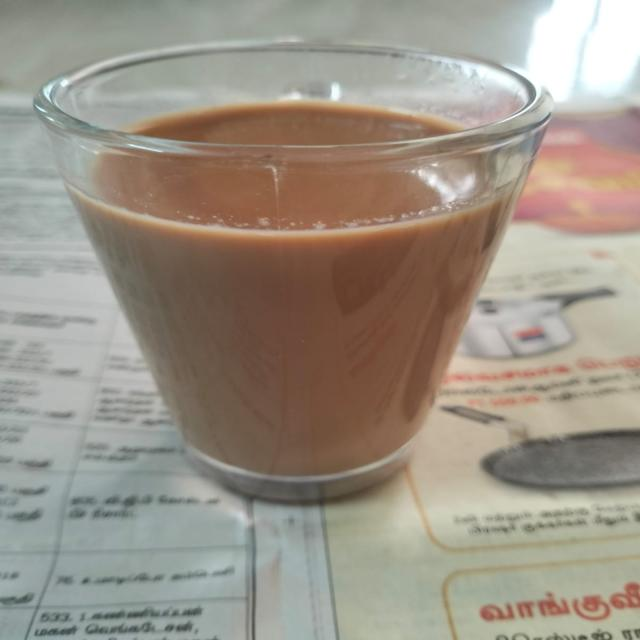glass-VX4N: (32, 34, 559, 509)
